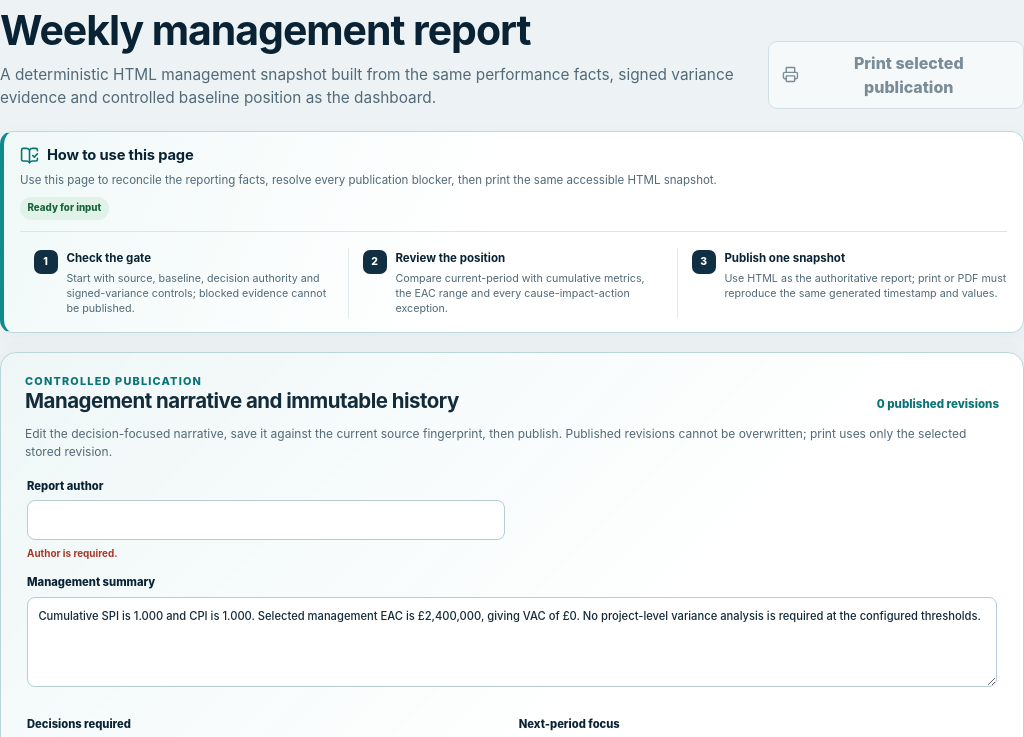
Test: weekly management report page › requires a current saved draft before publishing an immutable revision
This screenshot has width=1024, height=737.
Type "Project Controls Manager" into the field labelled "Report author Author is required.".
click(266, 520); type("Project Controls Manager")  # box [27,500,505,540]
(page scrolled)
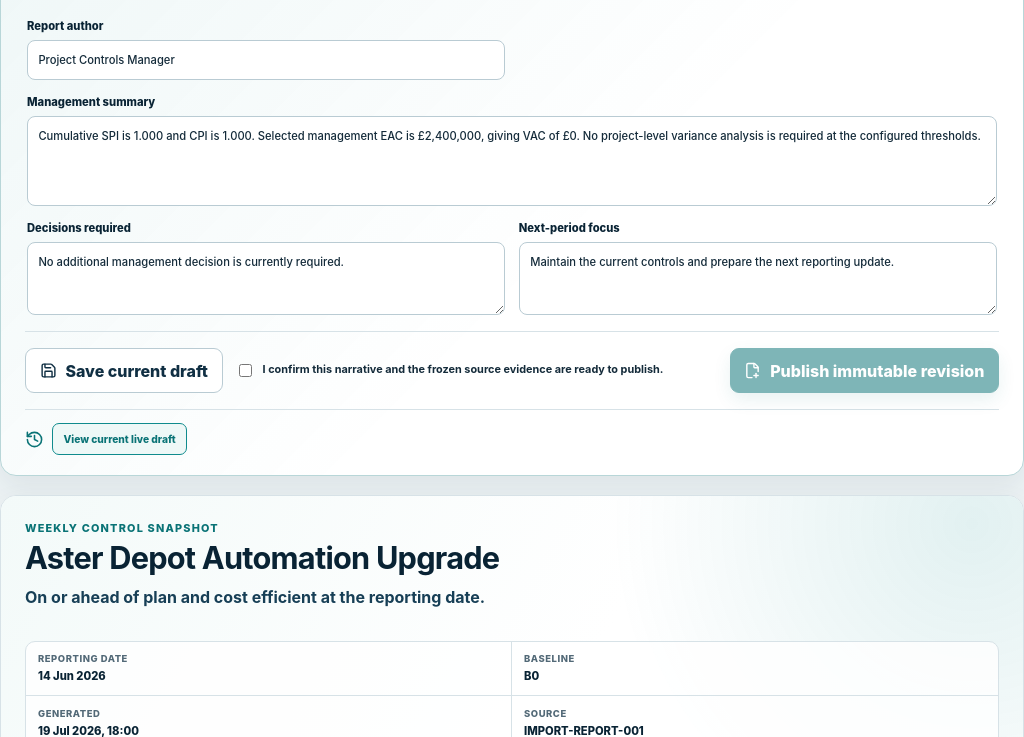
Click the checkbox labelled "I confirm this narrative and the frozen source evidence".
click(245, 370)  # box [238,364,252,377]
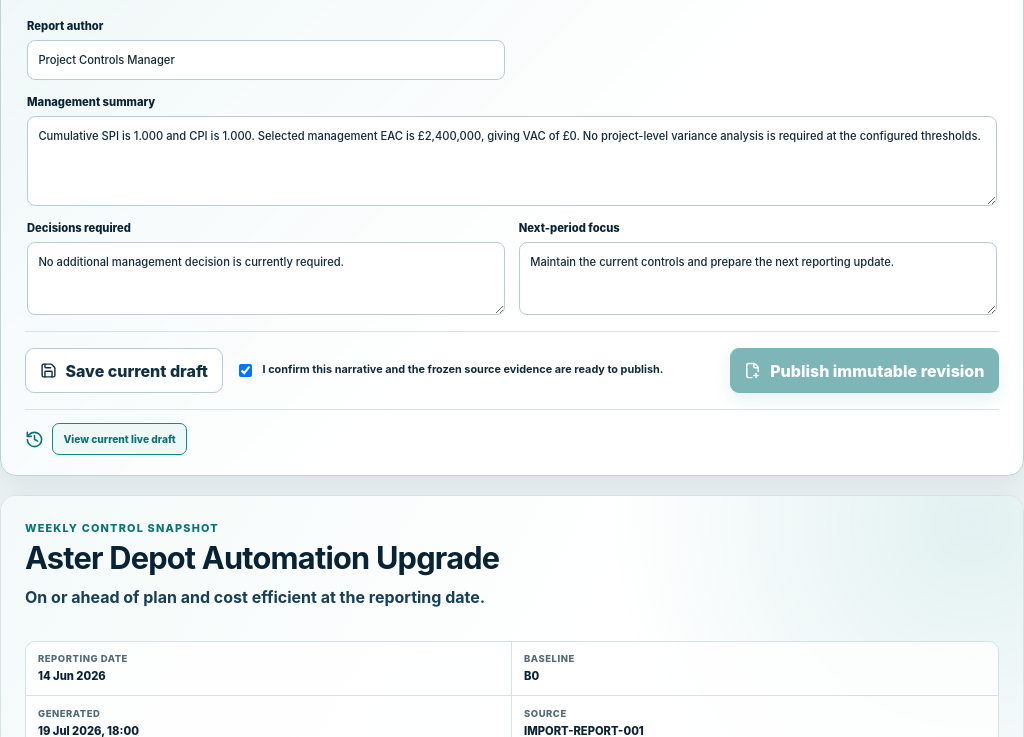
expect the button "Publish immutable revision" is disabled: met, box [730,348,999,393]
Click the button "Save current draft".
click(124, 371)  # box [25,348,222,393]
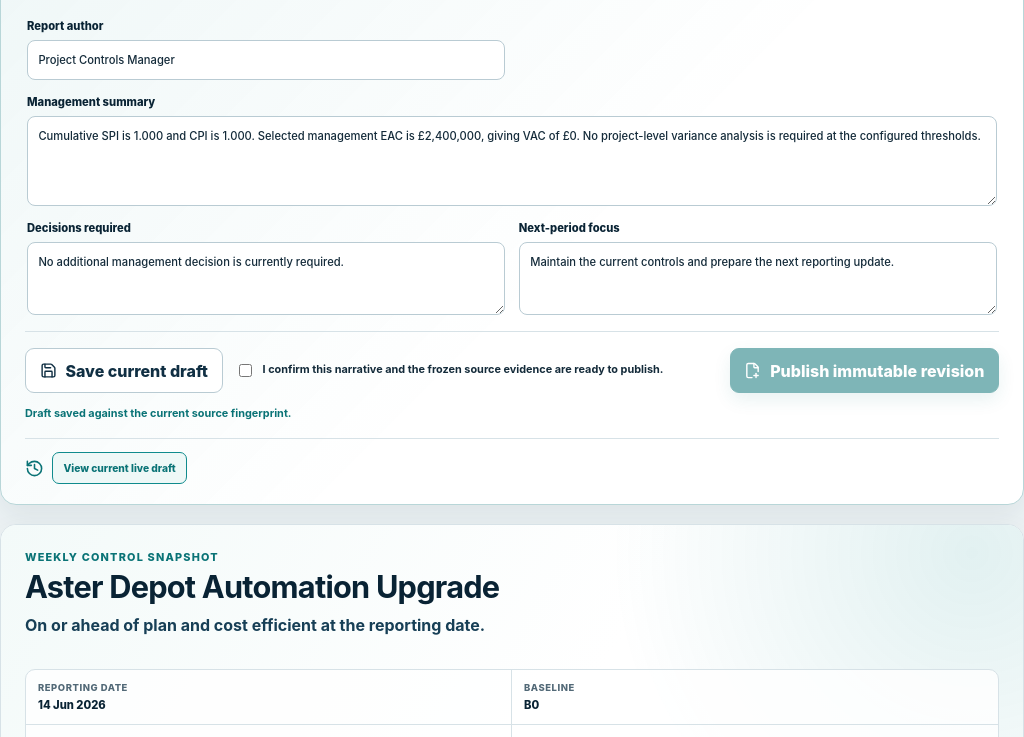
expect the button "Publish immutable revision" is disabled: met, box [730,348,999,393]
Click the checkbox labelled "I confirm this narrative and the frozen source evidence".
click(245, 370)  # box [238,364,252,377]
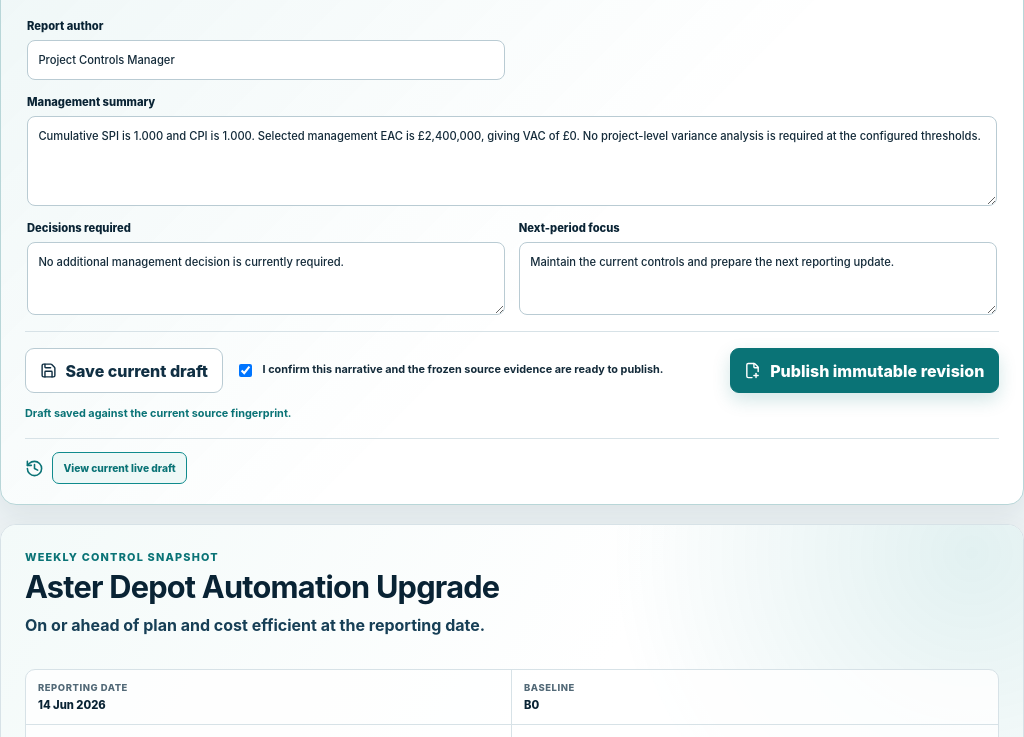
expect the button "Publish immutable revision" is enabled: met
Click the button "Publish immutable revision".
click(864, 371)  # box [730,348,999,393]
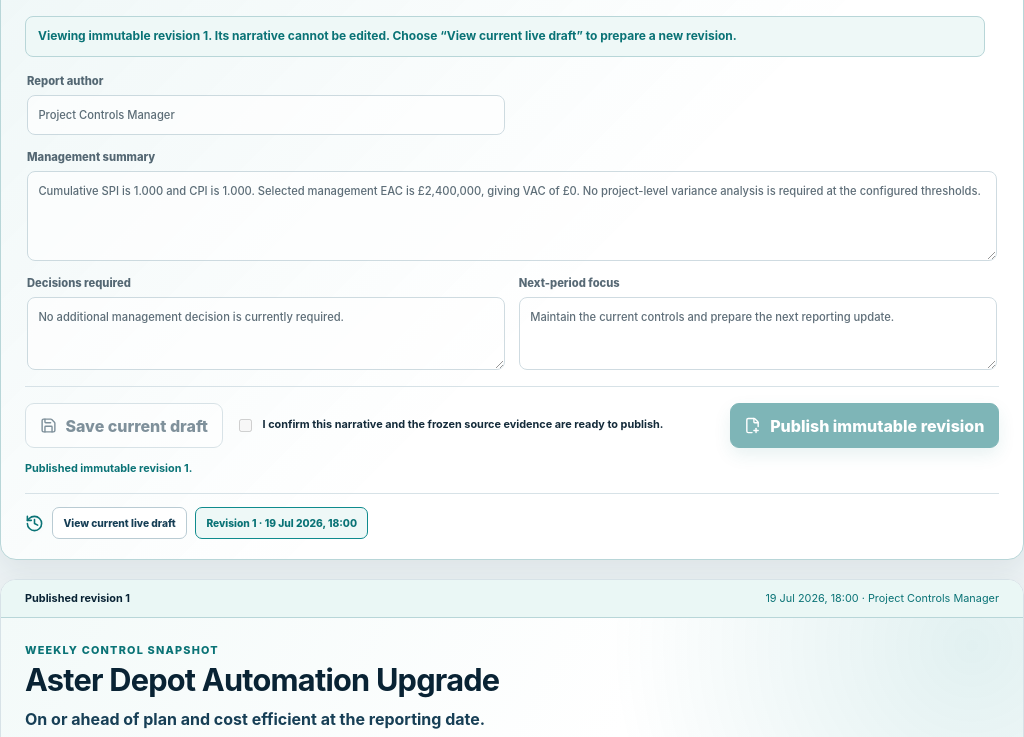
expect the element "Published revision" shows "Published revision 1": met, box [1,580,1023,618]
